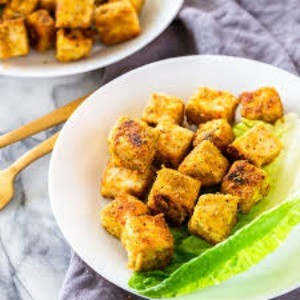tofu_brain food: (102, 97, 277, 248), (10, 1, 135, 70)
